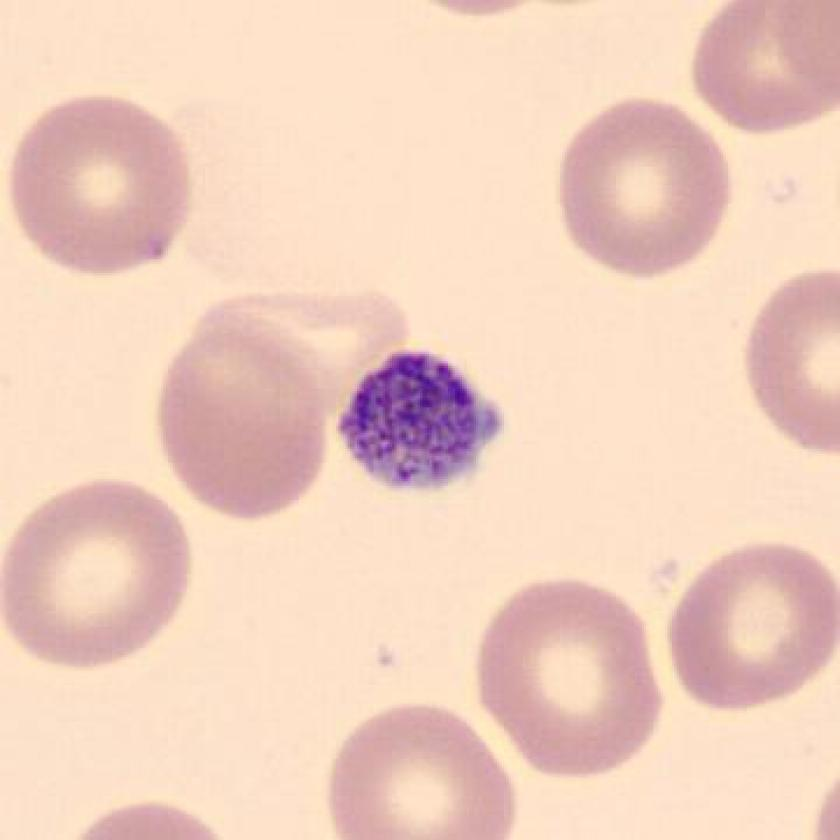platelets: (328, 344, 524, 503)
